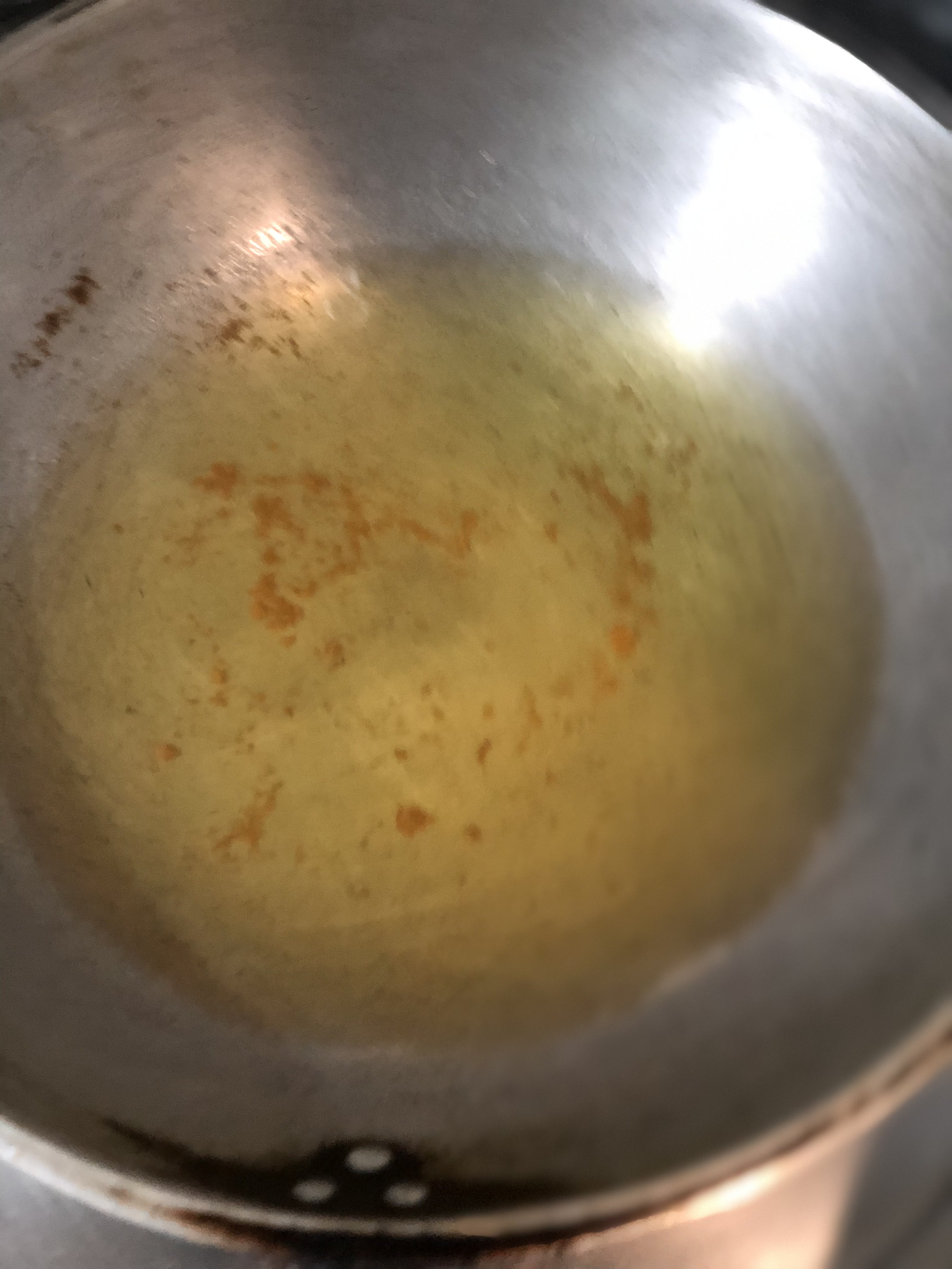reusable: (0, 249, 869, 1032)
